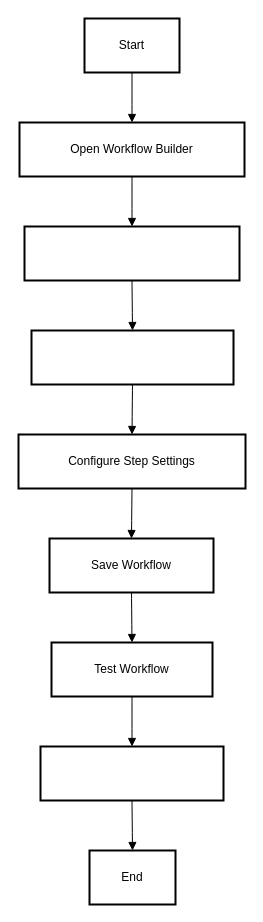
This 263x922 diagram has some shape labels left out. The centre of each missing label's shape, as x and y in pixels:
Add Workflow Steps: point 132,357
Create New Workflow: point 131,253
Publish Workflow: point 131,773
